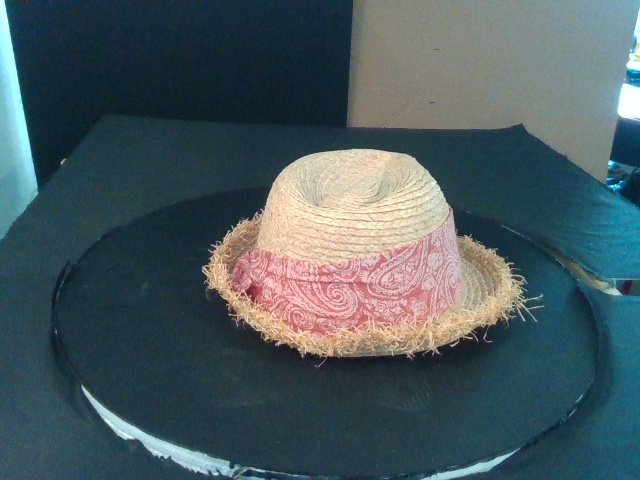hat: (203, 150, 512, 357)
